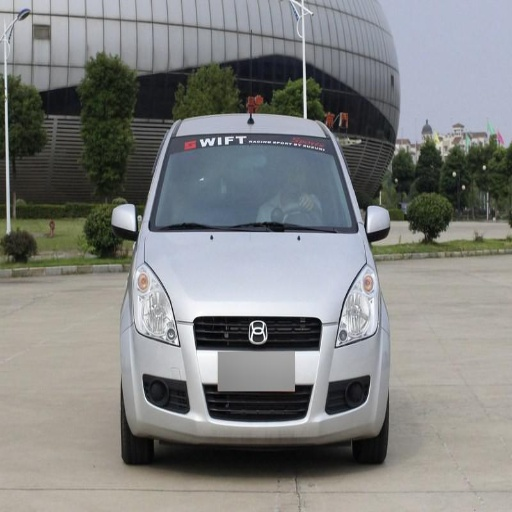front_bumper: (125, 320, 382, 443)
front_right_light: (129, 269, 178, 346)
hood: (143, 232, 365, 321)
